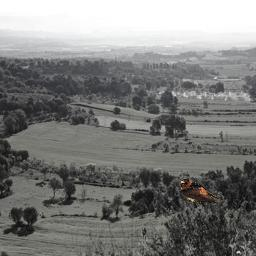Swallow: (179, 178, 221, 203)
